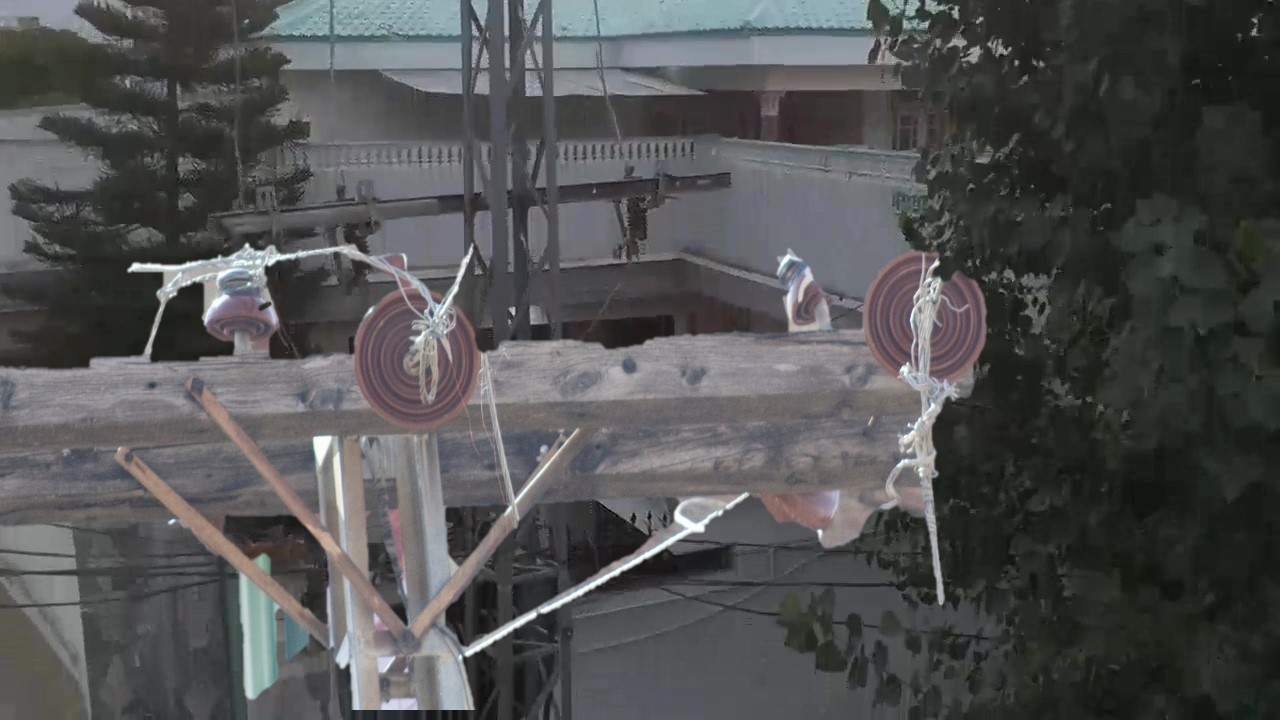defect_pin: (772, 245, 839, 335)
insulator_disc: (353, 281, 484, 426), (861, 245, 990, 386)
insulator_pin: (199, 258, 286, 351)
